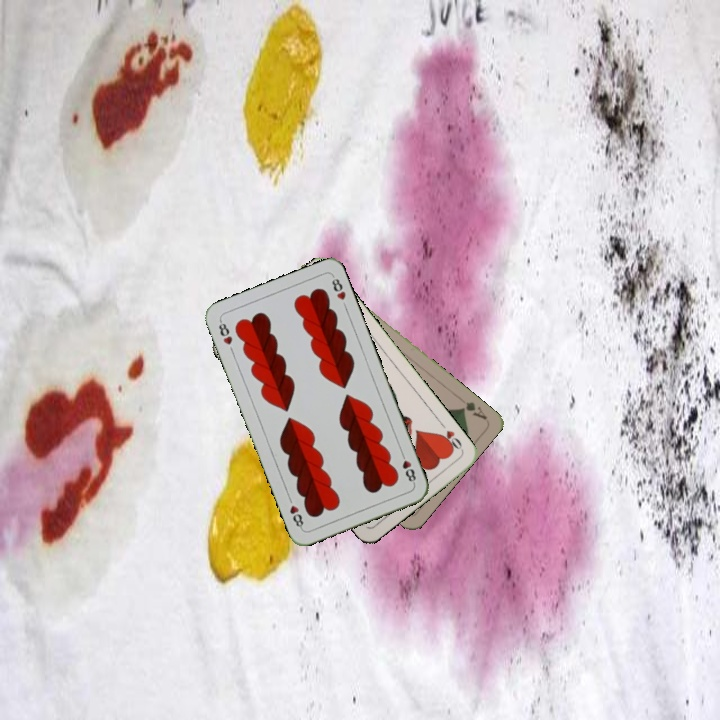GA: (457, 398, 490, 423)
H8: (397, 448, 419, 487), (214, 316, 235, 348)
HO: (436, 418, 465, 454)
